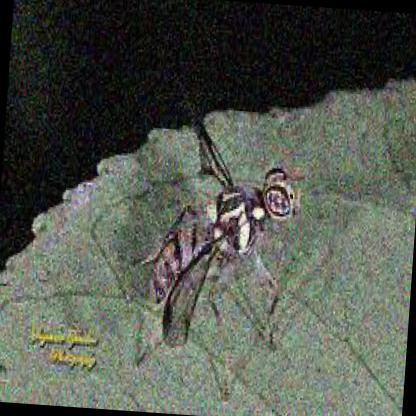fruit fly: (121, 76, 310, 346)
